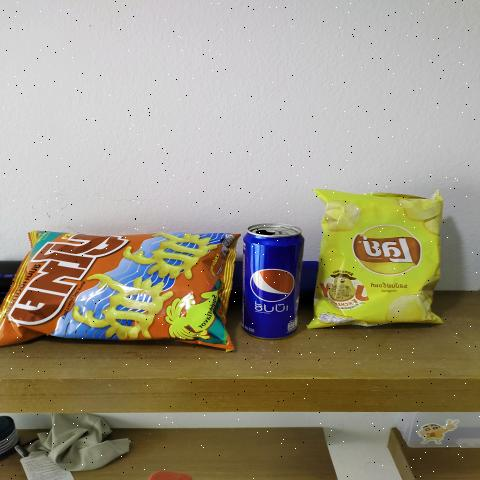pepsi_blue: (239, 222, 303, 338)
